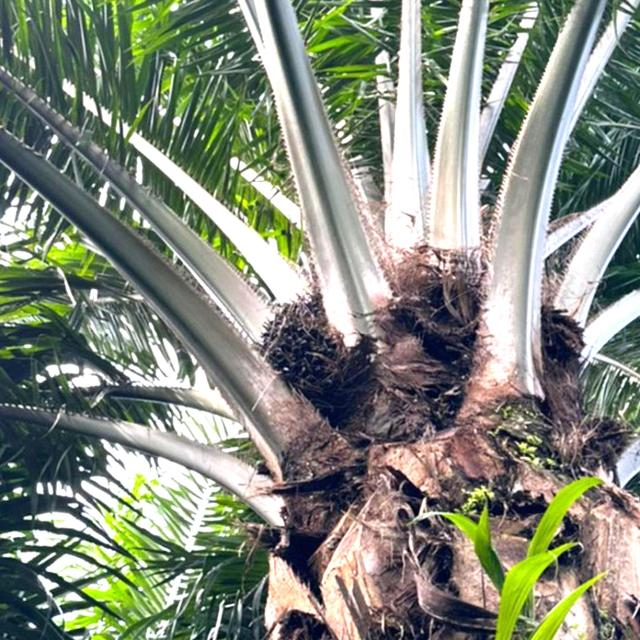unripe: (252, 288, 376, 424)
